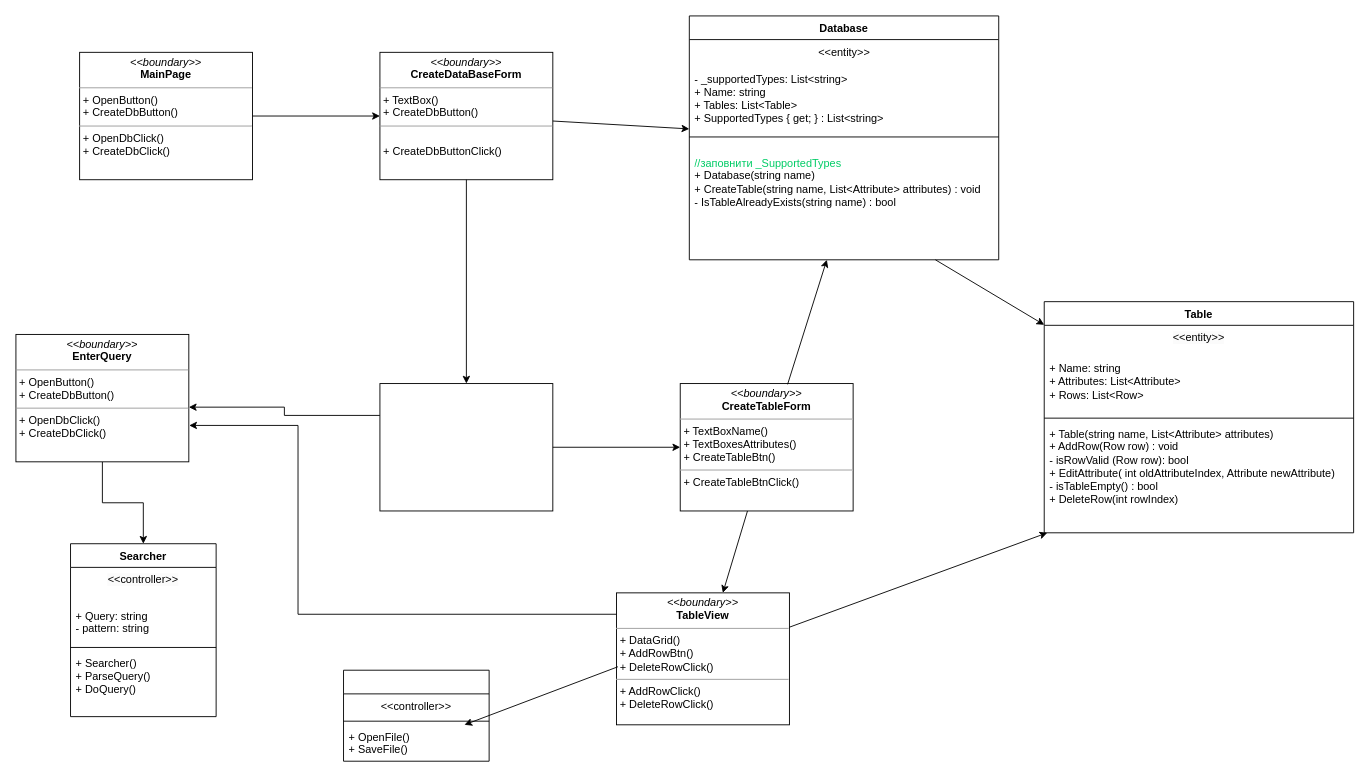
Image size: 1370x780. Some labels were removed from this diagram. Each missing label, with the box of its shape:
<<boundary>> TablesView + TreeView() + AddTableBtn() + AddTableBtnClick(): (379, 383, 553, 511)
FileManager: (343, 669, 489, 761)
